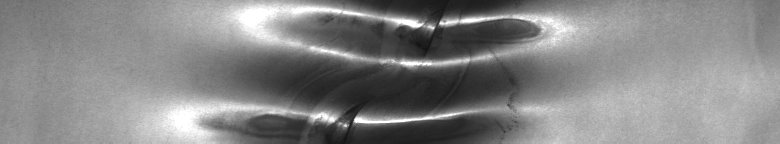ke: (198, 4, 578, 136)
